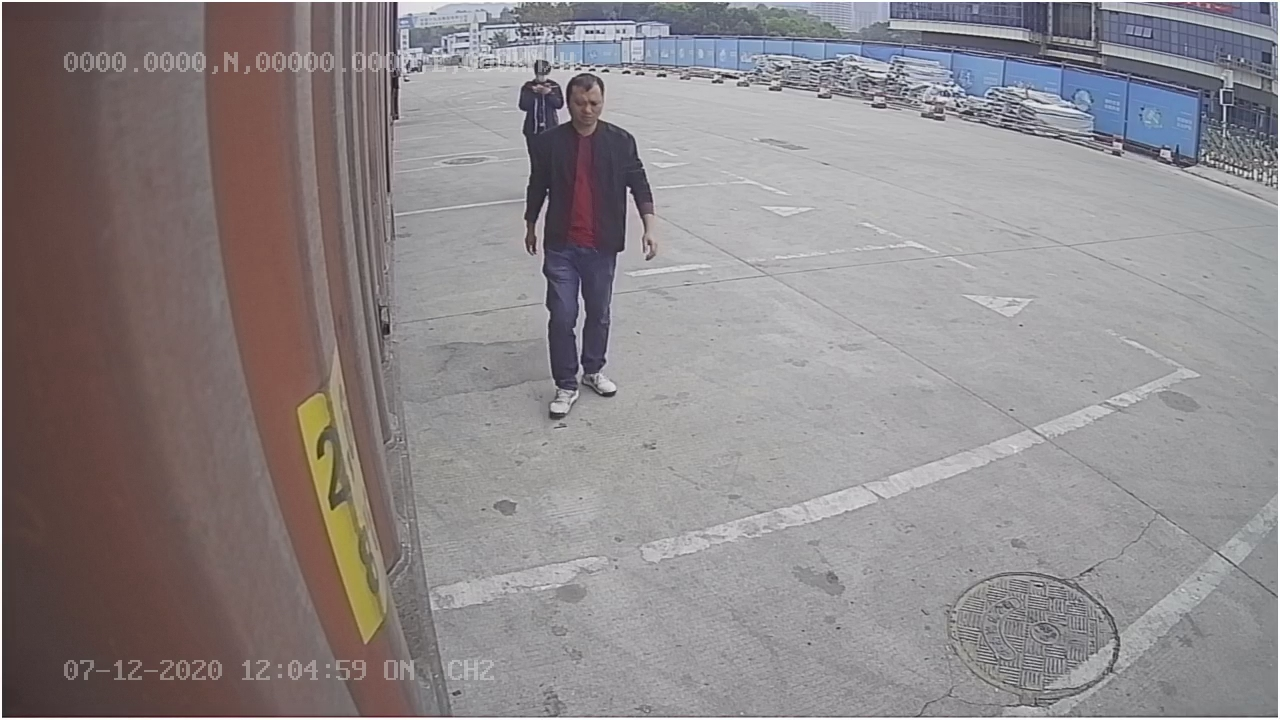person: (525, 71, 661, 421)
